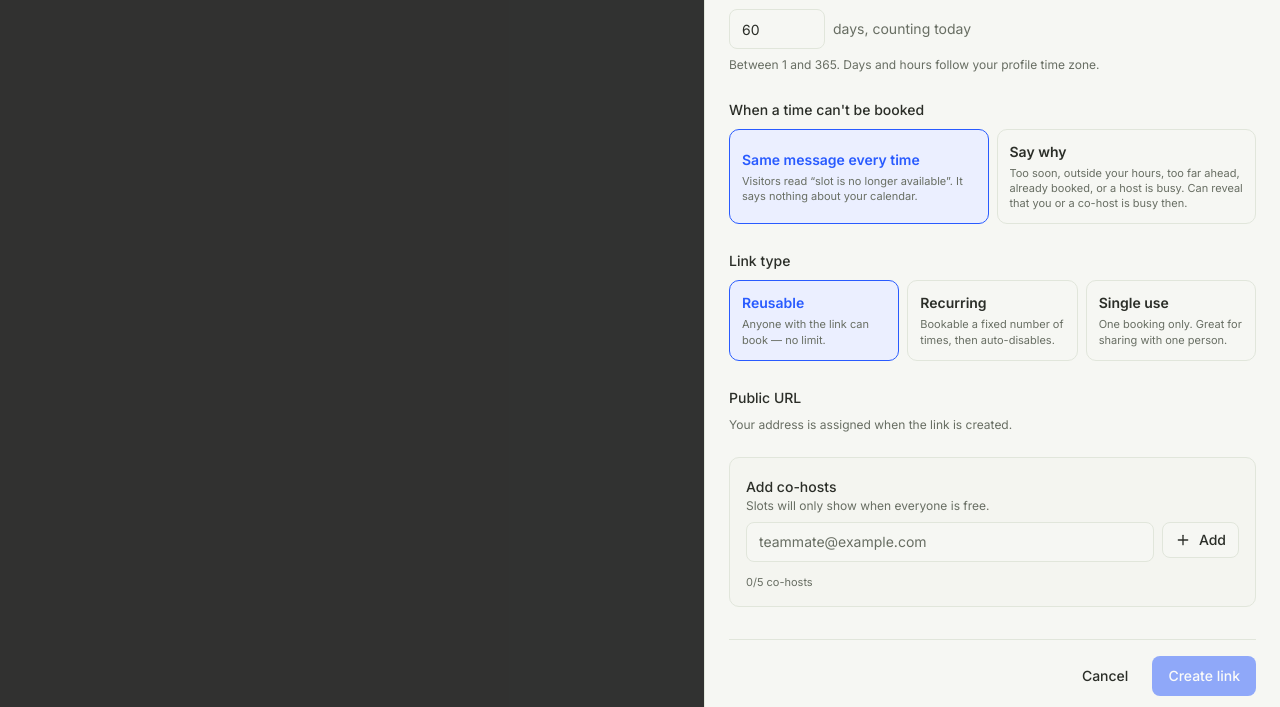
Scenario: demo mode follows the same rules (contract §5.5, AC-26) › AC-26 (AC-14): the demo owner's address is refused as a chip
The image size is (1280, 707).
(page scrolled)
In the field named "Co-host email": coordinates (950, 542) [746, 522, 1154, 562], type "Alex@Demo.Paceday.com"
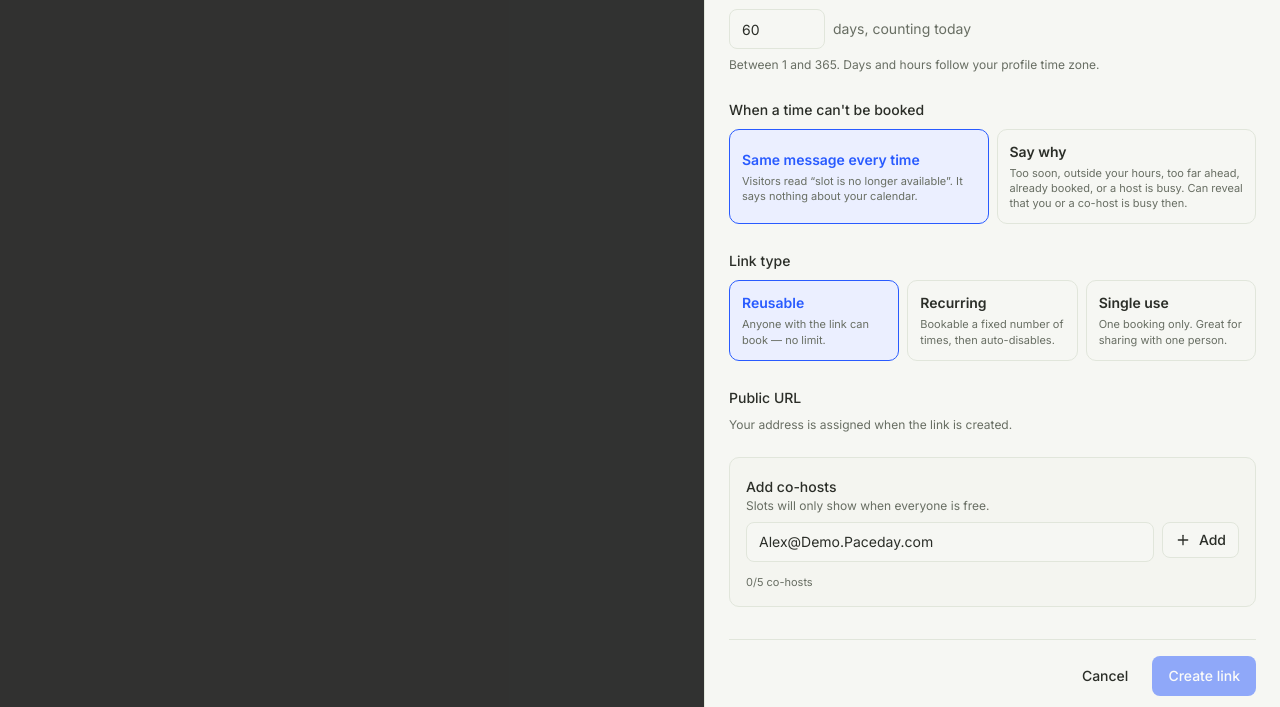
Click the button "Add": coordinates (1200, 540) [1162, 522, 1239, 558]
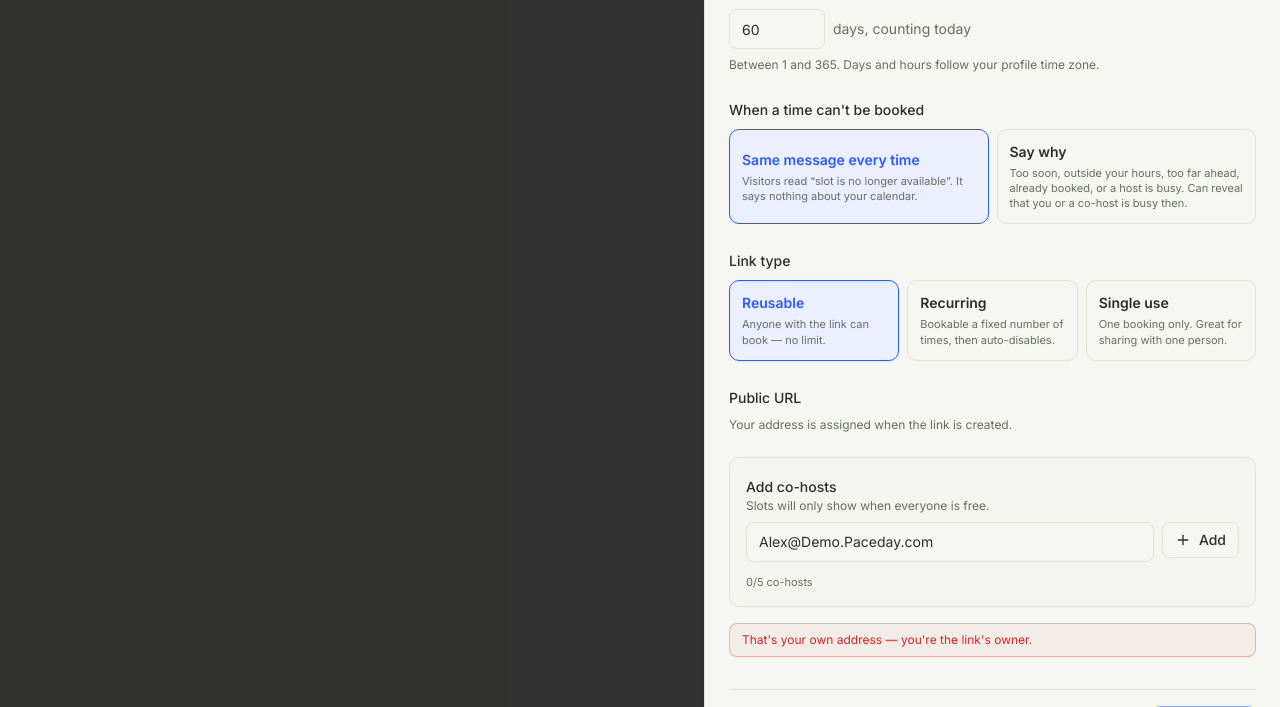
Expected: the message reads "That's your own address — you're the link's owner.", [742, 632, 1032, 647]
